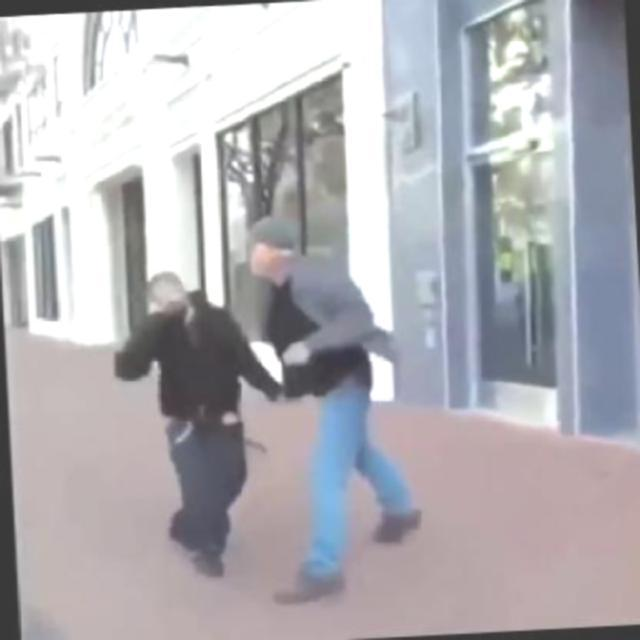fight: (106, 208, 431, 618)
